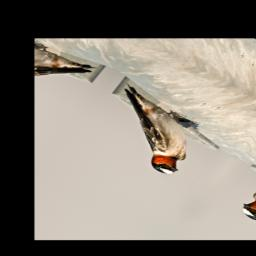Swallow: (84, 83, 214, 180)
